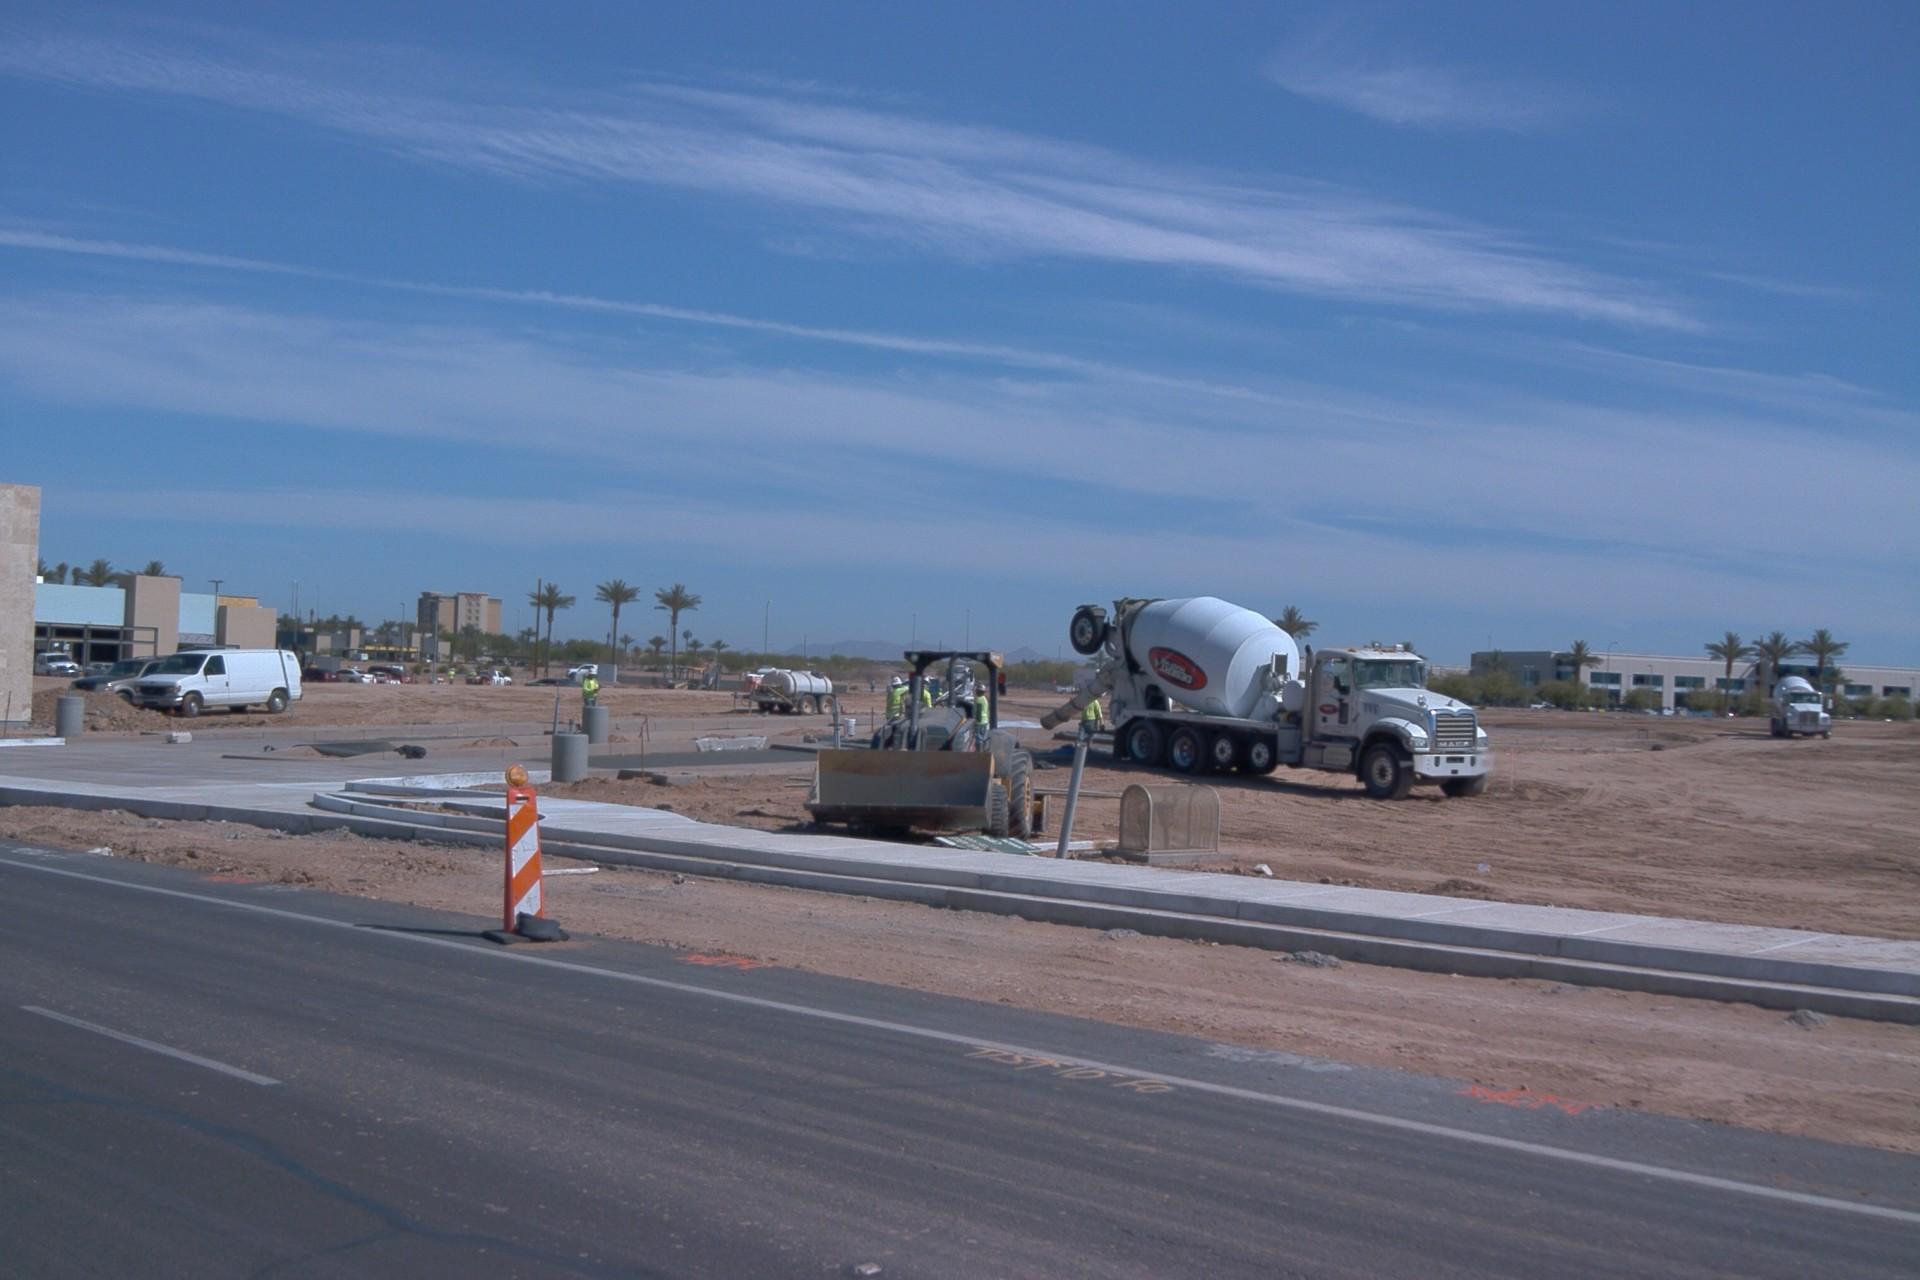TYPE_PEDESTRIAN: (971, 684, 993, 753), (1076, 698, 1103, 752), (884, 673, 911, 724), (580, 668, 601, 711), (918, 679, 935, 711), (446, 664, 459, 685), (936, 685, 945, 701), (868, 675, 876, 692), (467, 669, 479, 677)
TYPE_VEHICLE: (1039, 592, 1493, 805), (801, 649, 1049, 839), (133, 649, 308, 719), (66, 655, 170, 711), (731, 665, 836, 714), (1768, 675, 1834, 739), (932, 663, 979, 707), (665, 661, 723, 693), (32, 652, 81, 678), (295, 662, 344, 685), (367, 664, 410, 682), (468, 673, 513, 687), (333, 670, 377, 684), (87, 659, 121, 676), (568, 665, 601, 681), (756, 667, 795, 677), (531, 681, 580, 687), (51, 641, 72, 651), (349, 651, 368, 660), (1054, 685, 1074, 693)
